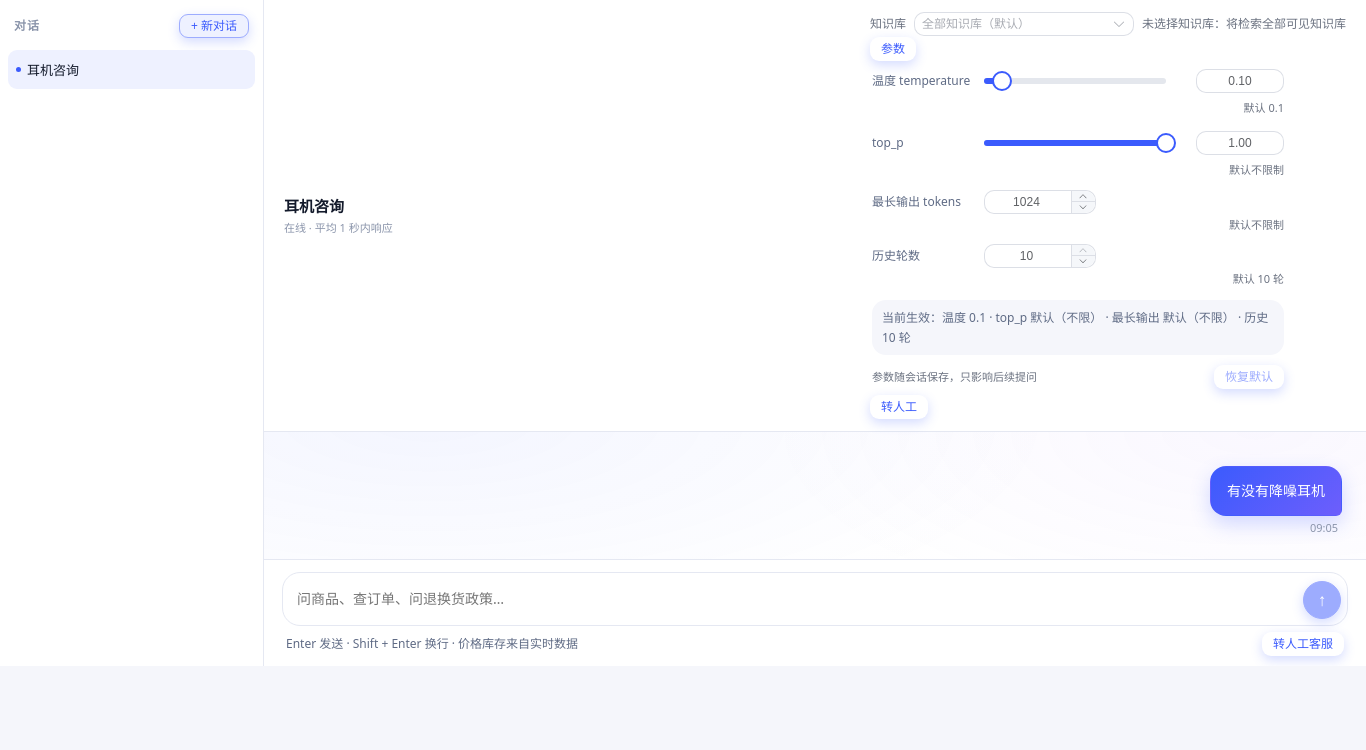
Test case: ChatView 集成 › 发送中禁用输入框
The width and height of the screenshot is (1366, 750).
Step 1. Type "问题" into the text box with placeholder "问商品、查订单、问退换货政策…" → (795, 599), box [297,579,1293,619]
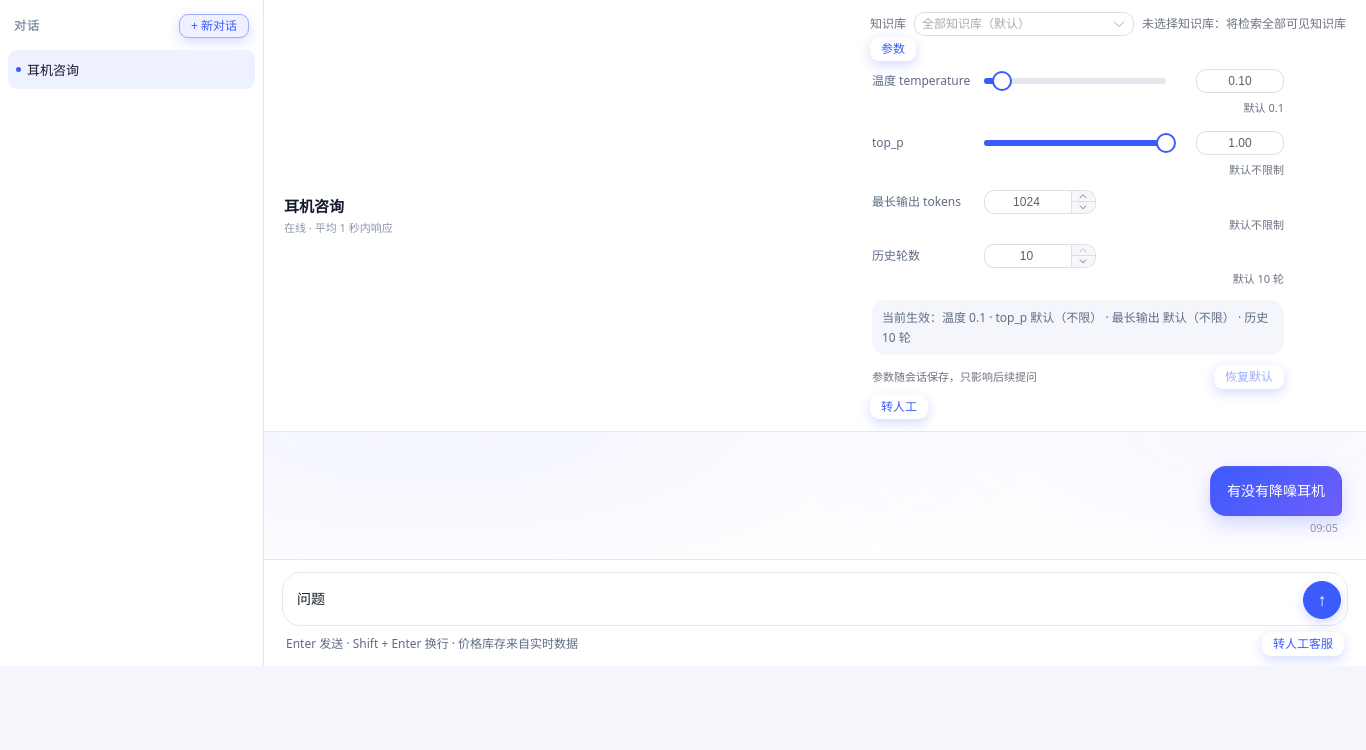
Step 2. Press Enter in the text box named "消息输入框", box [297,579,1293,619]
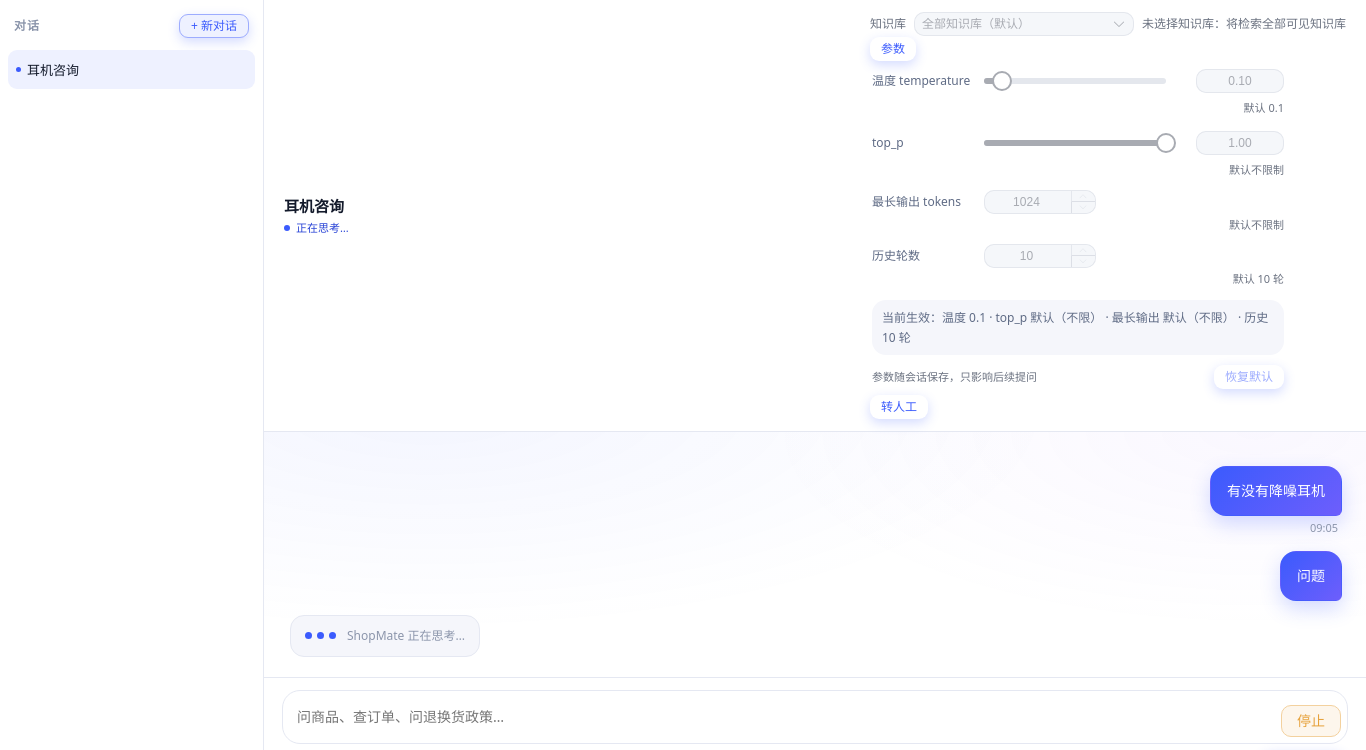
Check: the text box with placeholder "问商品、查订单、问退换货政策…" is disabled, box [297,697,1271,737]
Check: the text "停止" is shown, box [1297,714,1325,728]
